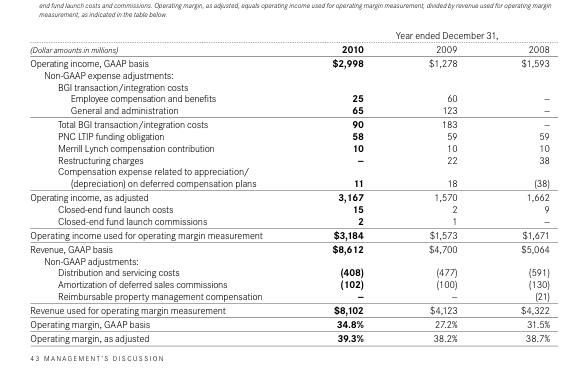table: (29, 28, 549, 344)
table column: (29, 28, 296, 344), (296, 28, 395, 344), (395, 28, 488, 344), (488, 28, 549, 344)
table column header: (29, 28, 549, 55)
table projected row header: (29, 68, 549, 80), (29, 254, 549, 266), (29, 80, 549, 91)
table row: (29, 165, 549, 189), (29, 41, 549, 55), (29, 227, 549, 241), (29, 302, 549, 316), (29, 316, 549, 330), (29, 330, 549, 344), (29, 28, 549, 41), (29, 55, 549, 68), (29, 103, 549, 116), (29, 116, 549, 129), (29, 189, 549, 202), (29, 214, 549, 227), (29, 241, 549, 254), (29, 289, 549, 302), (29, 68, 549, 80), (29, 91, 549, 103), (29, 129, 549, 141), (29, 141, 549, 153), (29, 153, 549, 165), (29, 202, 549, 214), (29, 254, 549, 266), (29, 266, 549, 278), (29, 80, 549, 91), (29, 278, 549, 289)
table spanning cell: (29, 28, 296, 55), (296, 28, 549, 41)
